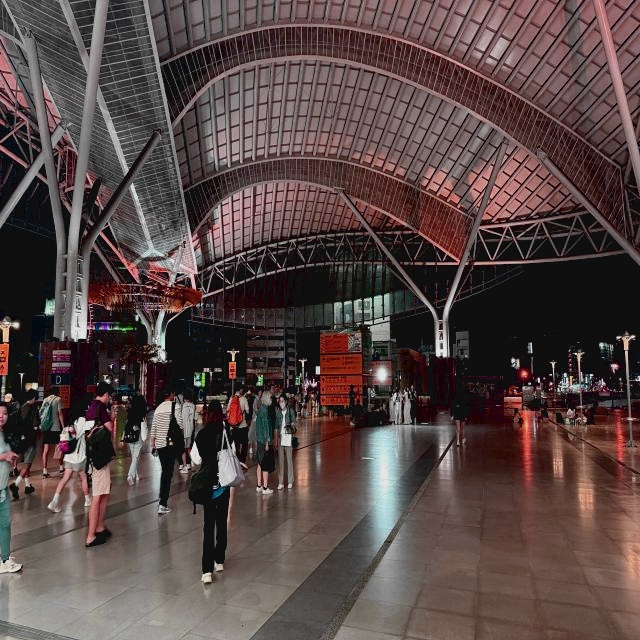Sin_Casco_Mascarrilla: (97, 382, 114, 404), (209, 400, 223, 424), (26, 389, 39, 403), (262, 390, 272, 406), (278, 394, 287, 410)
